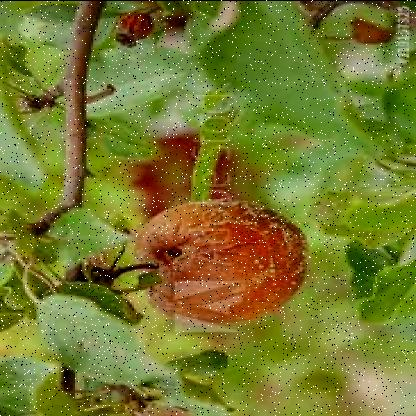damaged_apple: (121, 202, 312, 324)
